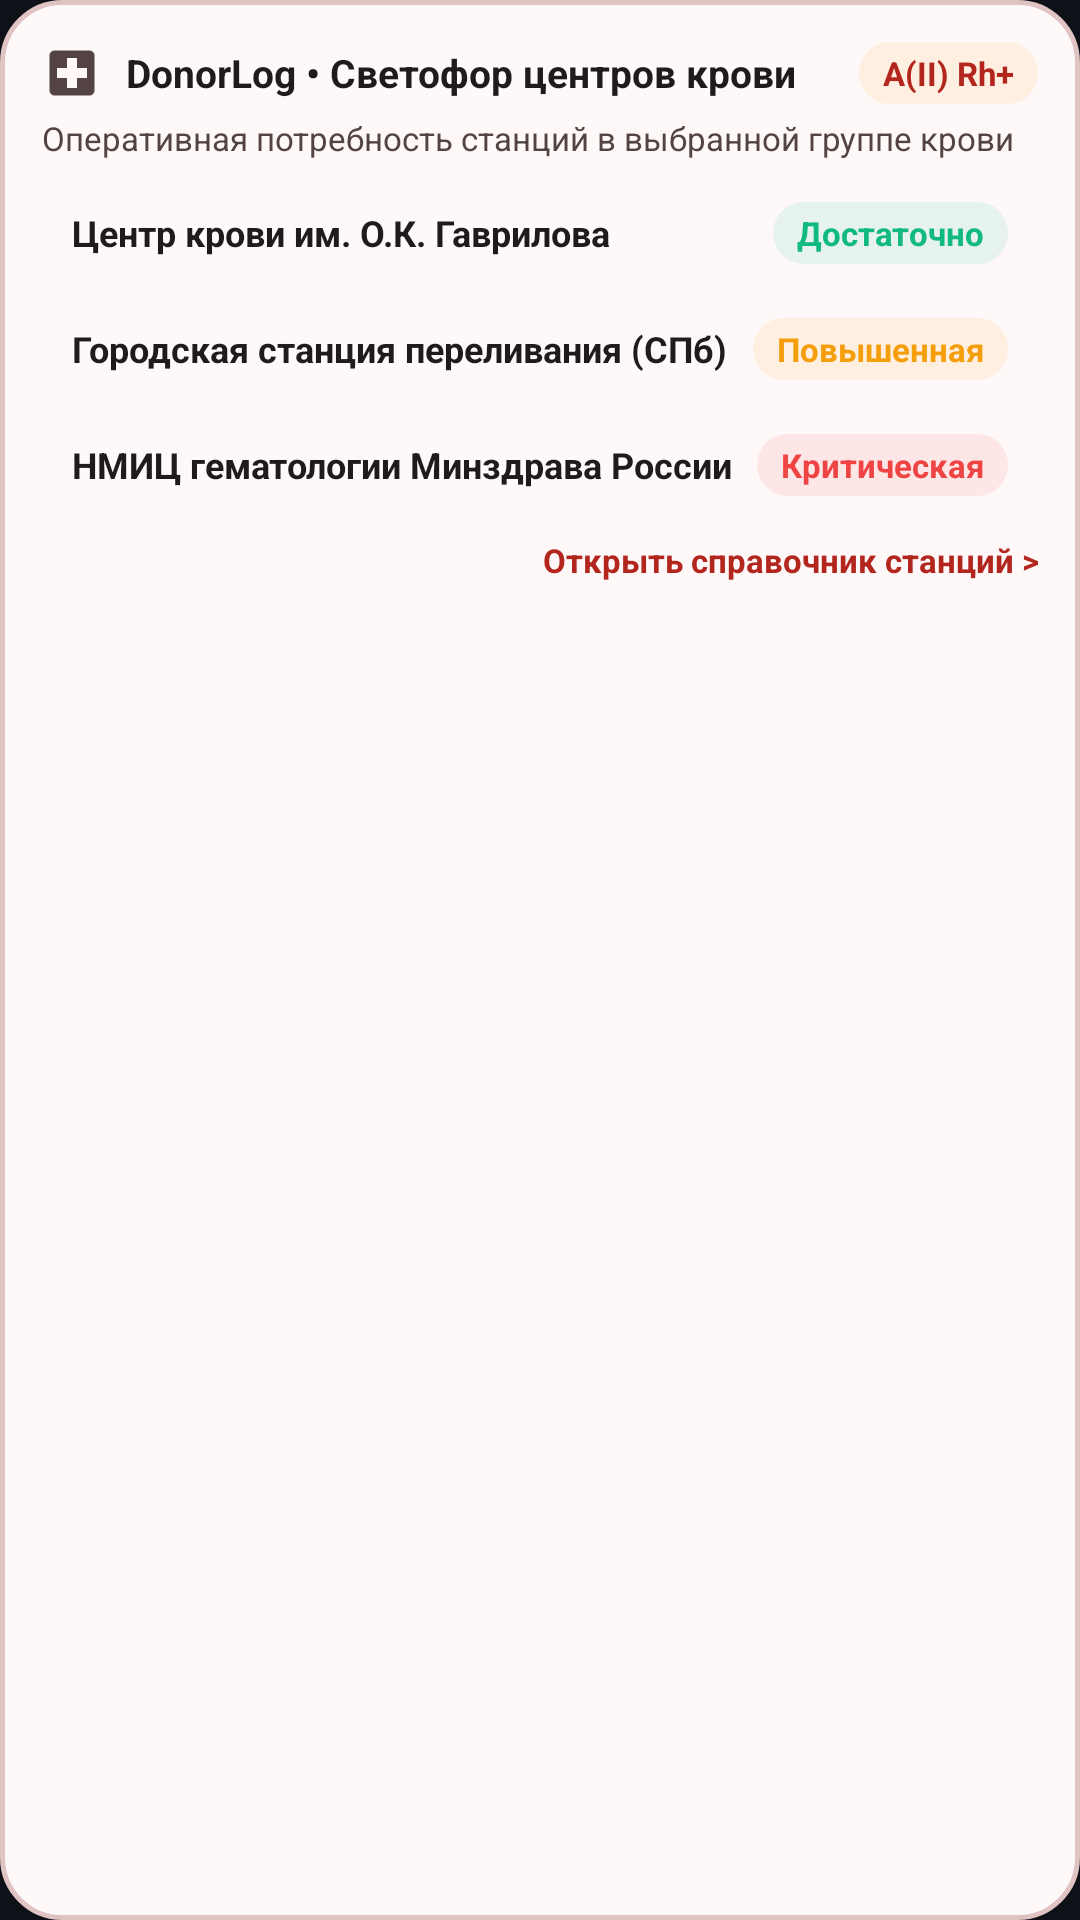

Icons on this 1080 × 1920 Android screen, each with the point to tap as [x,y]:
hospital: [72,73]
